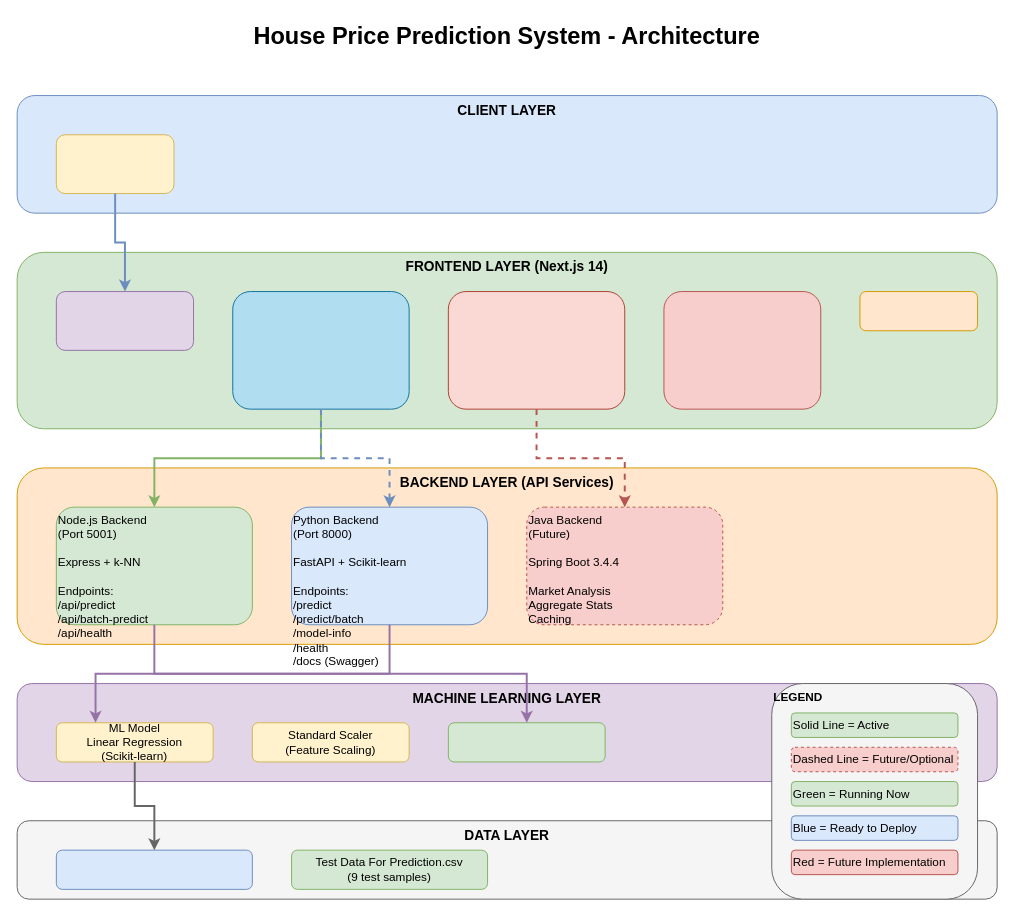
Image size: 1014x916. Some labels were removed from this diagram. The shapes that lost their labels are listed below. From the top down, each one's centre as x and y in pixels, then its label:
At point (114, 164): "Web Browser".
At point (124, 320): "Next.js Portal (Port 3000)".
At point (918, 311): "Tailwind CSS".
At point (320, 350): "App 1: Property Estimator - Form Input - Validation - History - Comparison".
At point (536, 350): "App 2: Market Analysis - Dashboard - Filters - What-If Tool - Export".
At point (742, 350): "Shared Components - Navigation - Layout - Charts (Recharts)".
At point (526, 742): "k-NN Algorithm (Node.js)".
At point (153, 869): "House Price Dataset.csv (50 training samples)".
